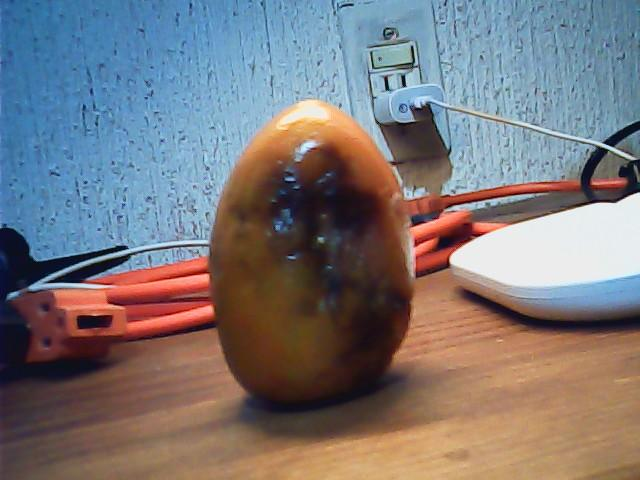defectuoso: (210, 100, 408, 405)
